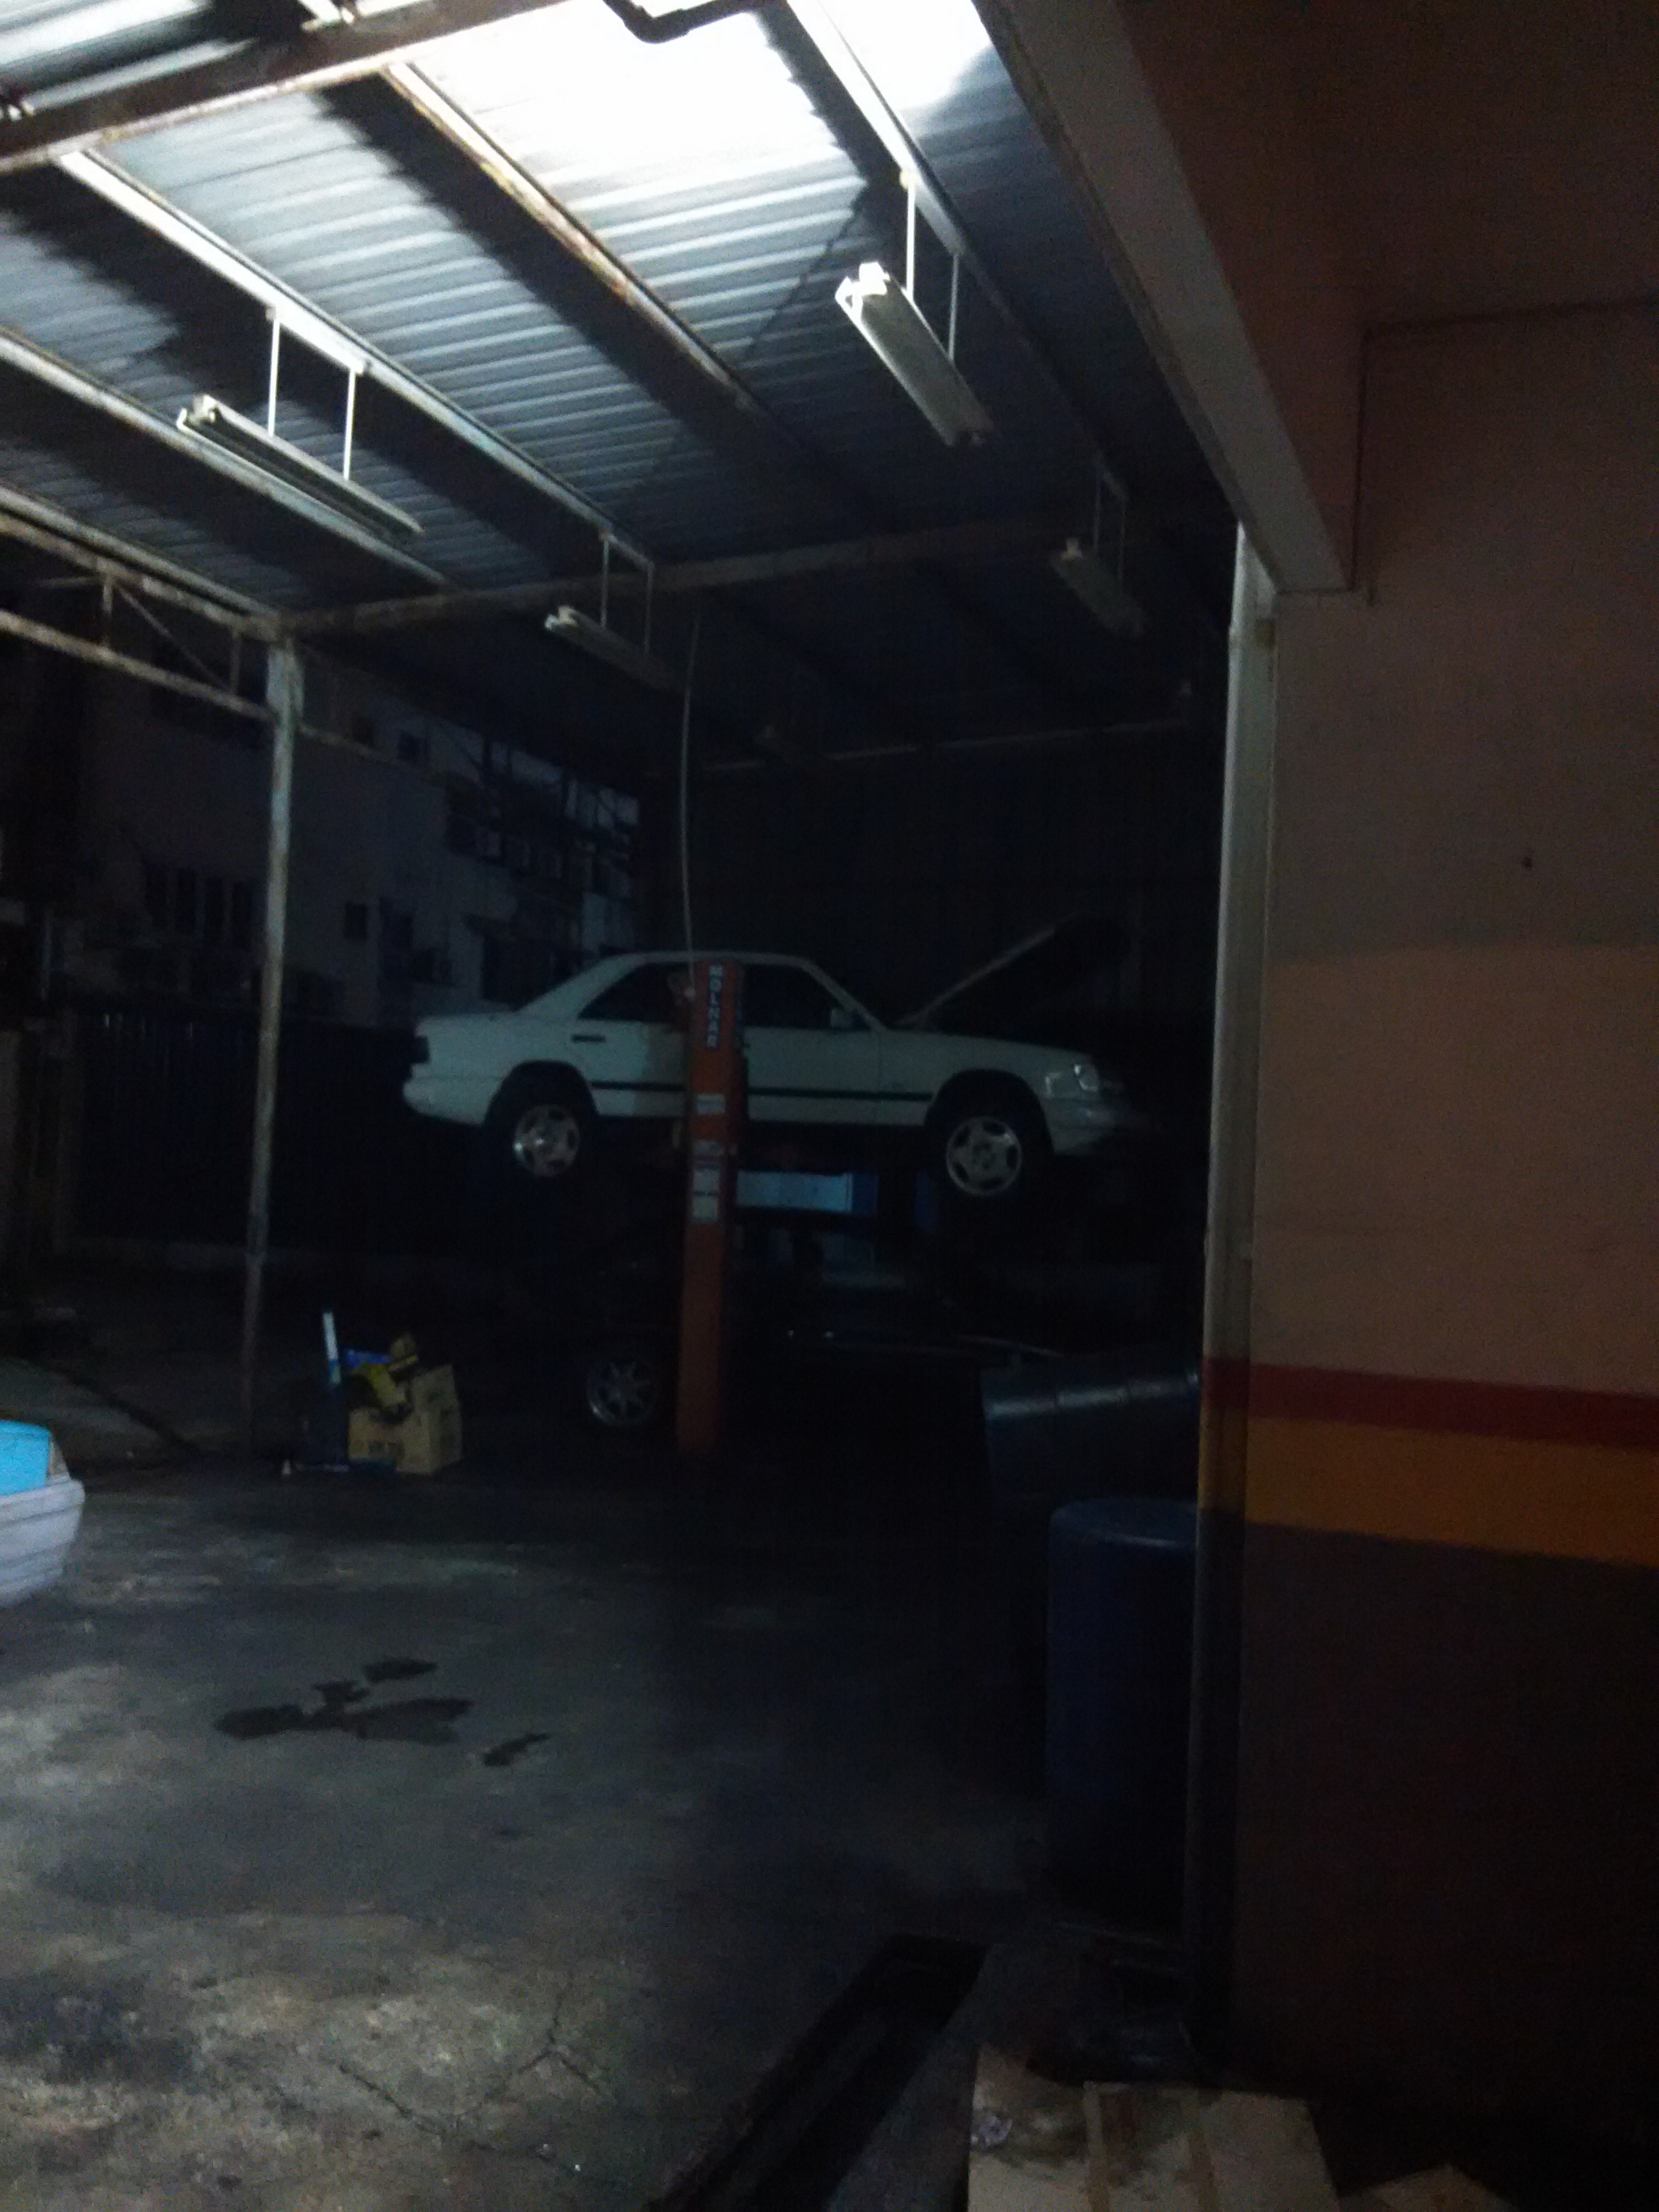car: (382, 897, 1161, 1223)
